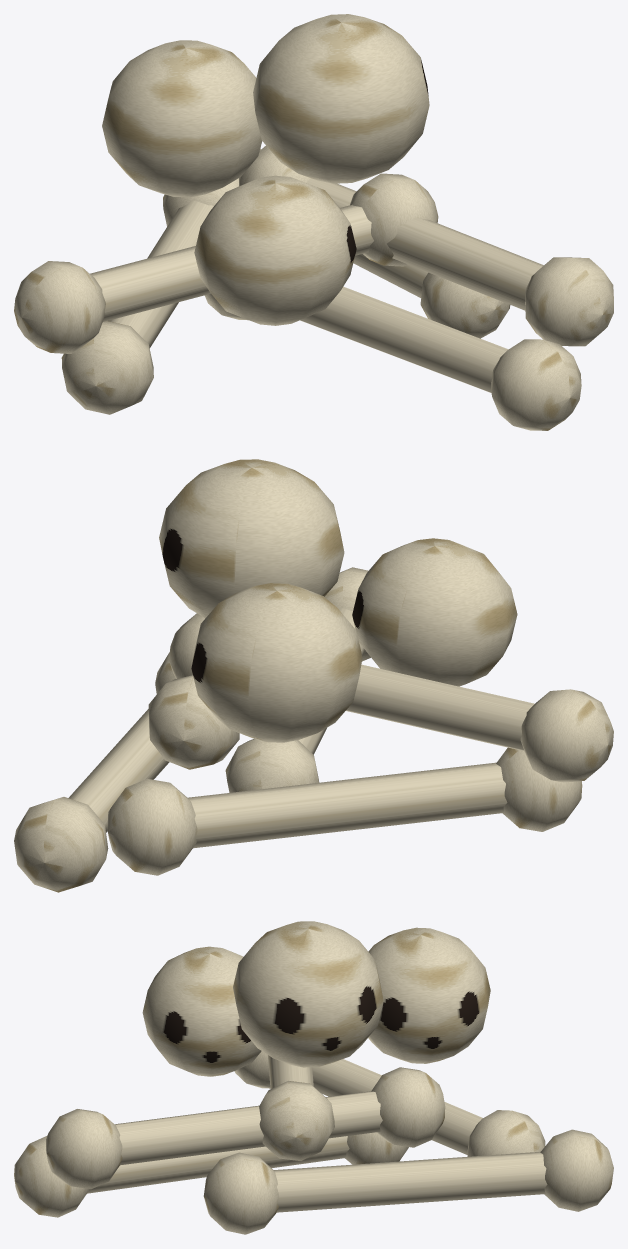
File: pilha_ossos.glb
3 views of the same model, one above another, from view 1: azimuth 30°, elevation 25°; view 2: azimuth 150°, elevation 25°; view 3: azimuth 270°, elevation 25° (orthographic). The views are drawn at different scales.
Visible parts, largest first — view 1: pilha_ossos; view 2: pilha_ossos; view 3: pilha_ossos.
Boxes of the visible parts, x1,y1,x2,y2 form: pilha_ossos: [14, 14, 613, 430]; pilha_ossos: [14, 459, 613, 892]; pilha_ossos: [14, 921, 613, 1234].
Size of the model in its own units: 0.4314 by 0.2691 by 0.5514.
Materials: 1 (1 with a texture image).
